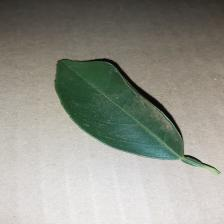healthy: (52, 66, 184, 158)
